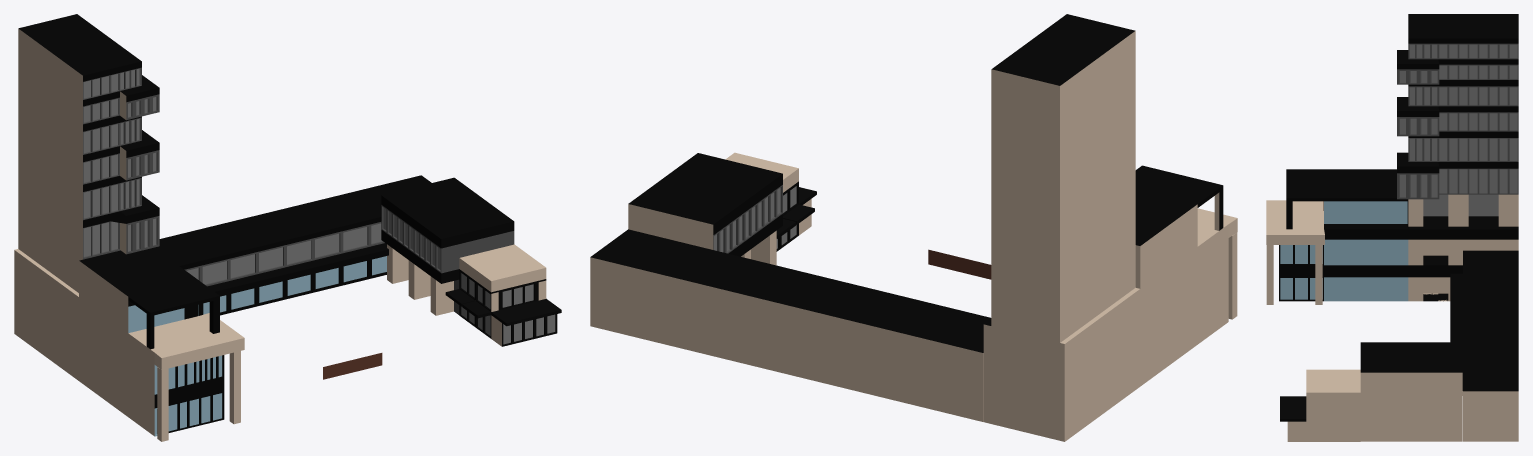
File: VitaPlaza.fbx
3 views of the same model, side by side, from view 1: azimuth 30°, elevation 25°; view 2: azimuth 150°, elevation 25°; view 3: azimuth 270°, elevation 25° (orthographic). The views are drawn at different scales.
Parts seen in each view (by area): view 1: Cube.003, Cube.002, Cube.001, Cube, Cube.005, Cube.004, Plane; view 2: Cube.003, Cube.002, Cube.001, Cube, Plane, Cube.005; view 3: Cube.003, Cube.002, Cube.001, Cube, Cube.004, Cube.006.
Part boxes in pixels (box(x1,y1,x2,y2)): Cube.003: box(14, 14, 244, 436); Cube.002: box(154, 175, 431, 315); Cube.001: box(381, 177, 514, 315); Cube: box(445, 244, 561, 346); Cube.005: box(157, 367, 168, 441); Cube.004: box(229, 351, 240, 424); Plane: box(323, 353, 382, 379); Cube.003: box(983, 14, 1237, 441); Cube.002: box(590, 229, 991, 421); Cube.001: box(628, 153, 782, 265); Cube: box(725, 152, 816, 251); Plane: box(928, 249, 991, 279); Cube.005: box(1228, 232, 1237, 319); Cube.003: box(1266, 14, 1518, 301); Cube.002: box(1450, 250, 1518, 441); Cube.001: box(1360, 342, 1462, 441); Cube: box(1280, 369, 1360, 441); Cube.004: box(1266, 245, 1273, 304); Cube.006: box(1315, 245, 1322, 304).
Size of the model in its own units: 6719 by 4790 by 4217.
